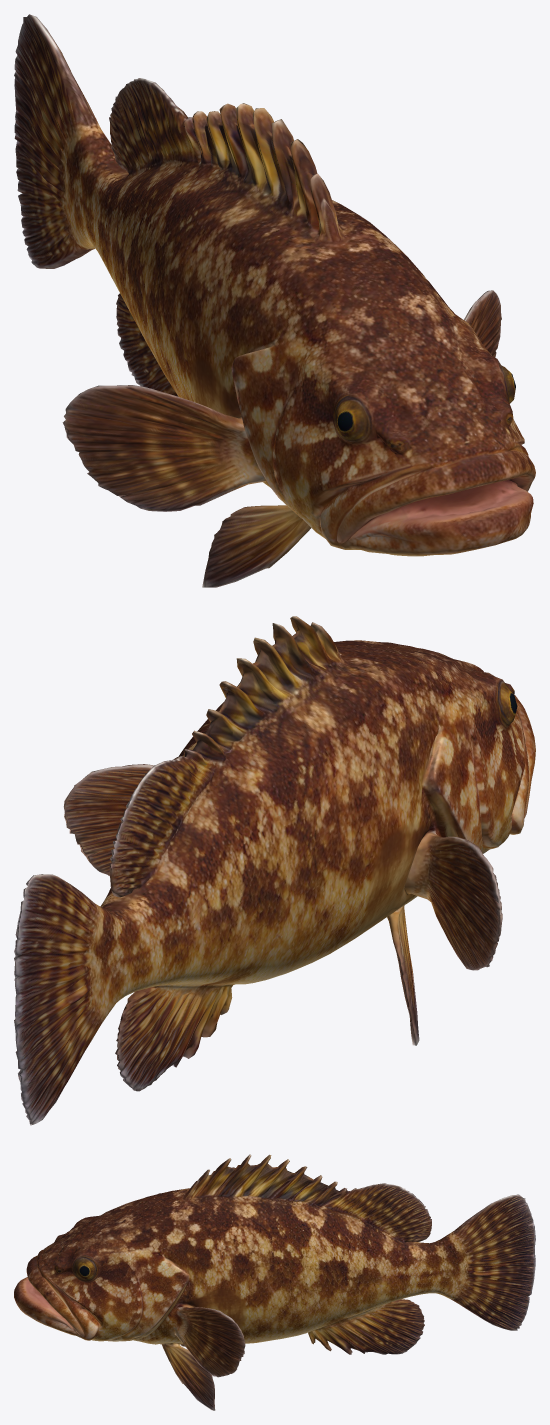
File: Grouper.obj
3 renders of one model, top to bottom at view 1: azimuth 30°, elevation 25°; view 2: azimuth 150°, elevation 25°; view 3: azimuth 270°, elevation 25°, orthographic. The views are drawn at different scales.
Size of the model in its own units: 0.5281 by 0.4829 by 1.
1 material, 1 textured.
